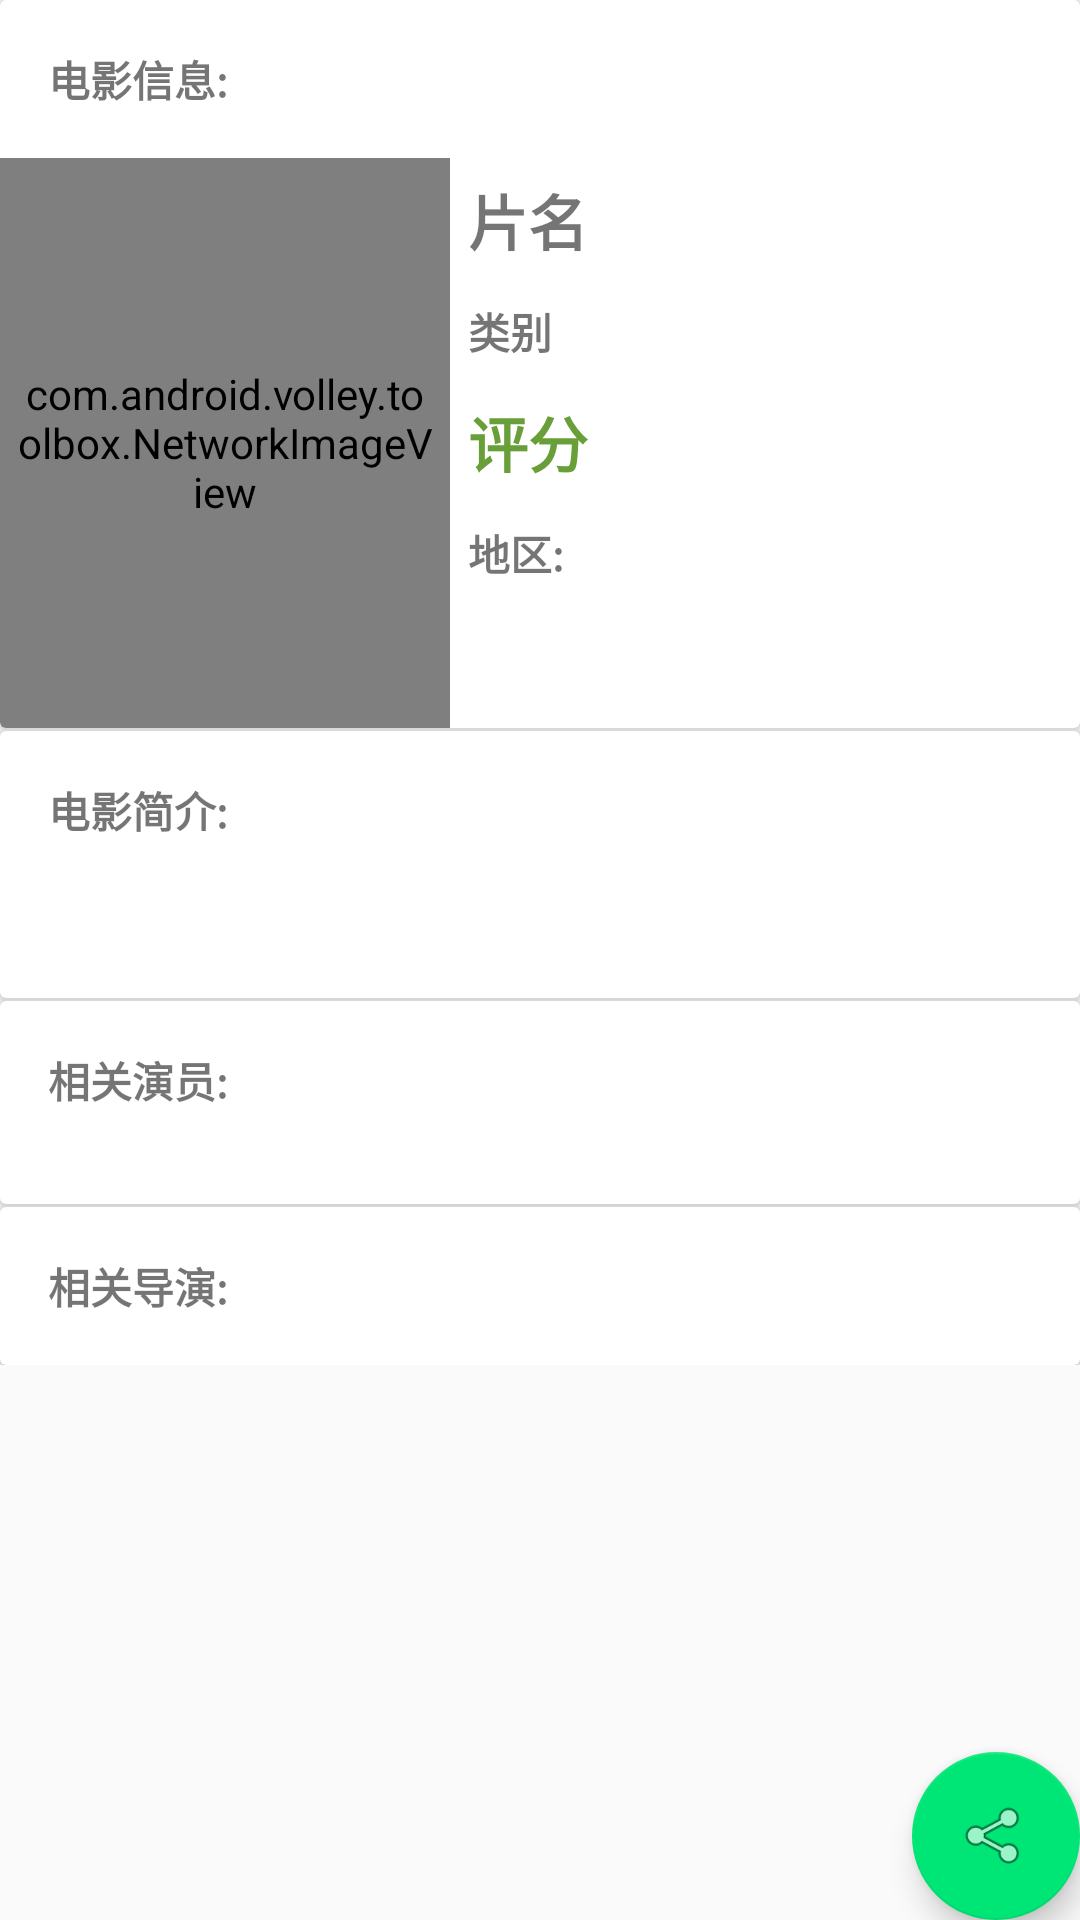

Locate icon controls on the screen. Image size 1080x1920, boxes as (x1,y1,x2,y2).
share: (912,1752,1080,1920)
